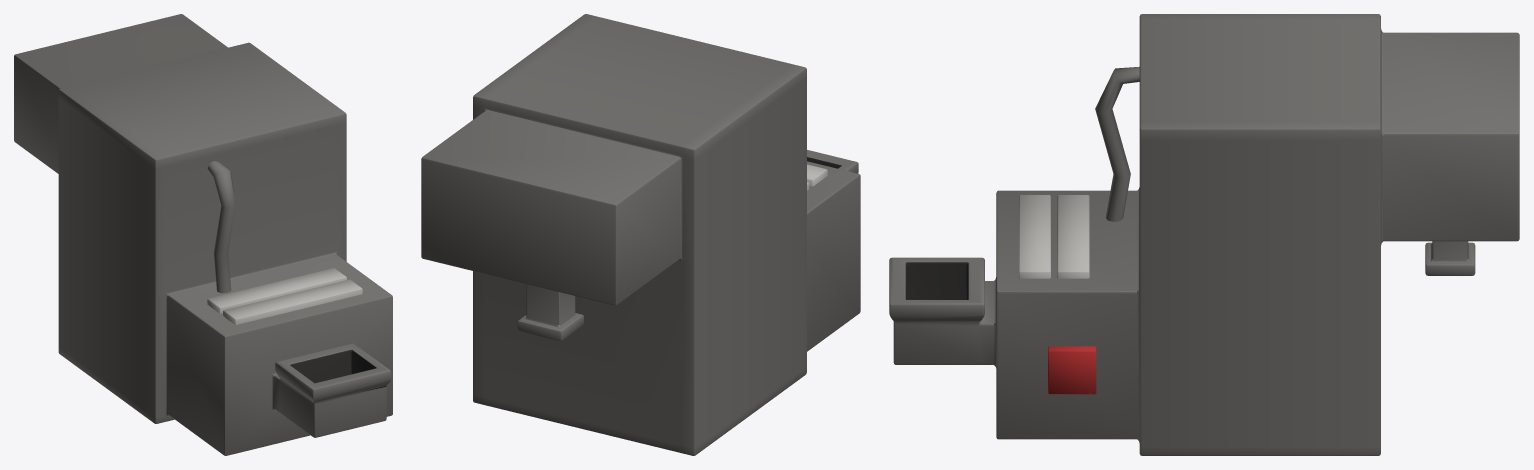
The model's file is TrashMachine.fbx.
3 renders of one model, left to right at view 1: azimuth 30°, elevation 25°; view 2: azimuth 150°, elevation 25°; view 3: azimuth 270°, elevation 25°, orthographic. The views are drawn at different scales.
Parts seen in each view (by area): view 1: Trash; view 2: Trash; view 3: Trash.
Part boxes in pixels (x1,y1,x2,y2): Trash: (14, 14, 392, 455); Trash: (421, 14, 860, 455); Trash: (889, 14, 1519, 455).
Size of the model in its own units: 227 by 300 by 522.
Materials: 1 (1 with a texture image).
